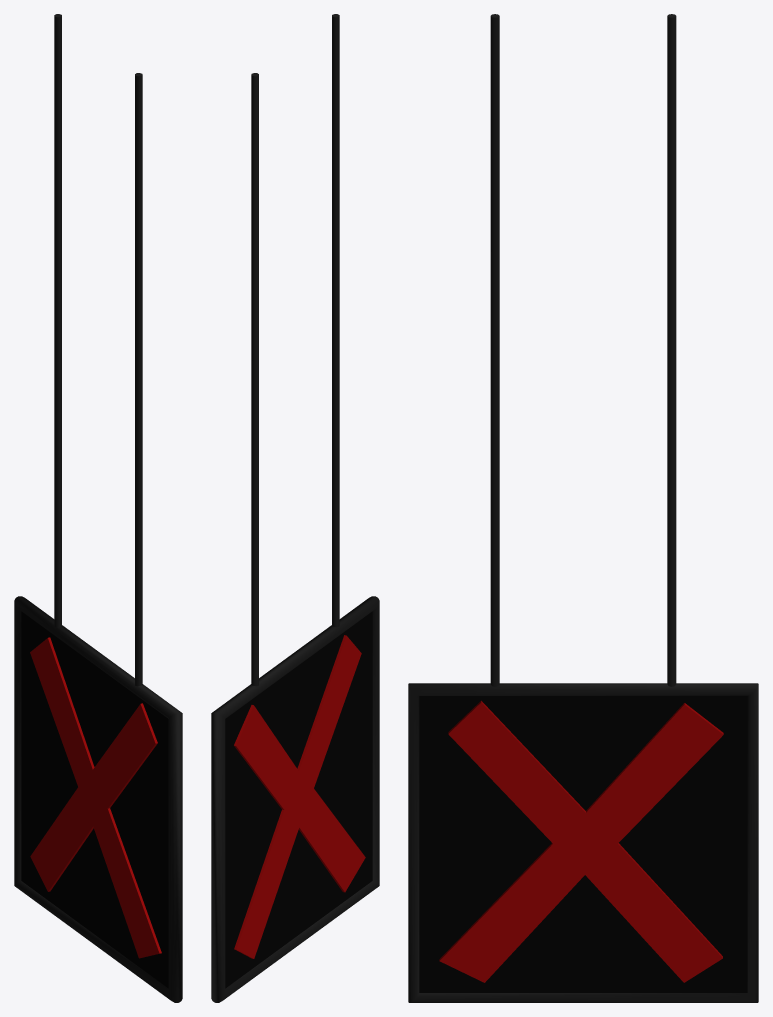
Rendered from chedaojinxing.obj.
3 views of the same model, side by side, from view 1: azimuth 30°, elevation 25°; view 2: azimuth 150°, elevation 25°; view 3: azimuth 270°, elevation 25° (orthographic). The views are drawn at different scales.
Visible parts, largest first — view 1: jinzhixingshi01; view 2: jinzhixingshi01; view 3: jinzhixingshi01.
Boxes of the visible parts, <box> form: jinzhixingshi01: <box>14,14,182,1002</box>; jinzhixingshi01: <box>211,14,379,1002</box>; jinzhixingshi01: <box>408,14,758,1002</box>.
Size of the model in its own units: 30 by 1955 by 630.
